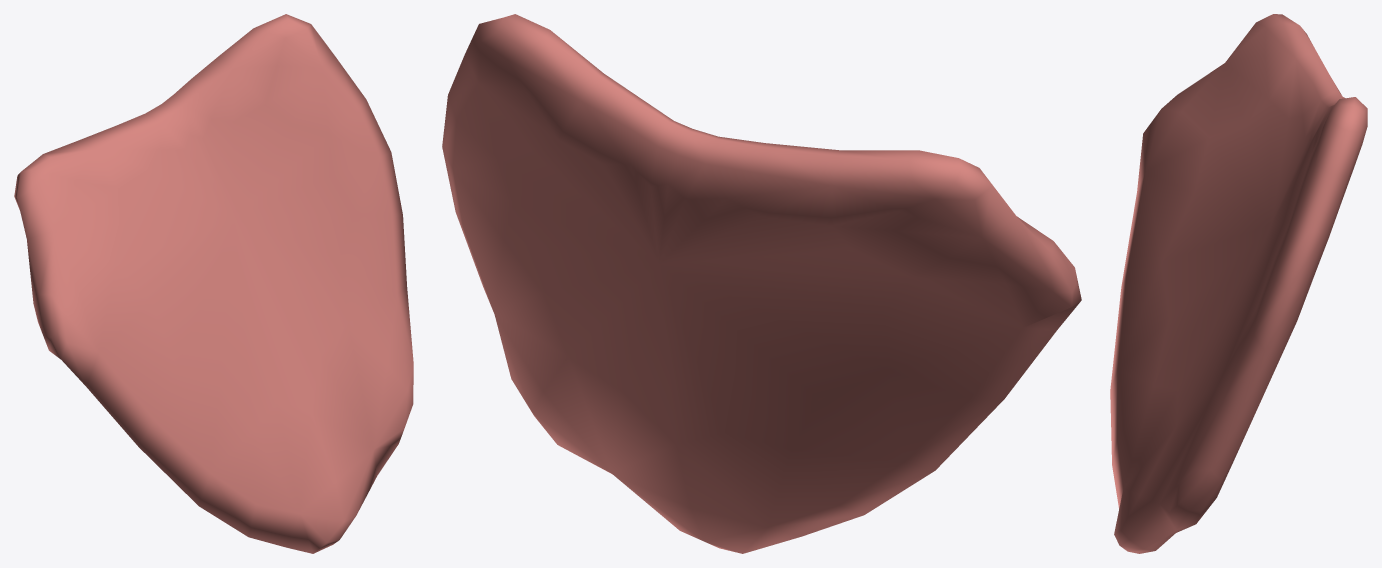
3 views of the same model, side by side, from view 1: azimuth 30°, elevation 25°; view 2: azimuth 150°, elevation 25°; view 3: azimuth 270°, elevation 25° (orthographic). The views are drawn at different scales.
Visible parts, largest first — view 1: ZA_30d27d6801969c38; view 2: ZA_30d27d6801969c38; view 3: ZA_30d27d6801969c38.
Part boxes in pixels (left/top/right/bottom): ZA_30d27d6801969c38: left=14, top=14, right=413, bottom=553; ZA_30d27d6801969c38: left=442, top=14, right=1081, bottom=553; ZA_30d27d6801969c38: left=1110, top=14, right=1367, bottom=553.
Size of the model in its own units: 0.00549 by 0.00577 by 0.00281.
